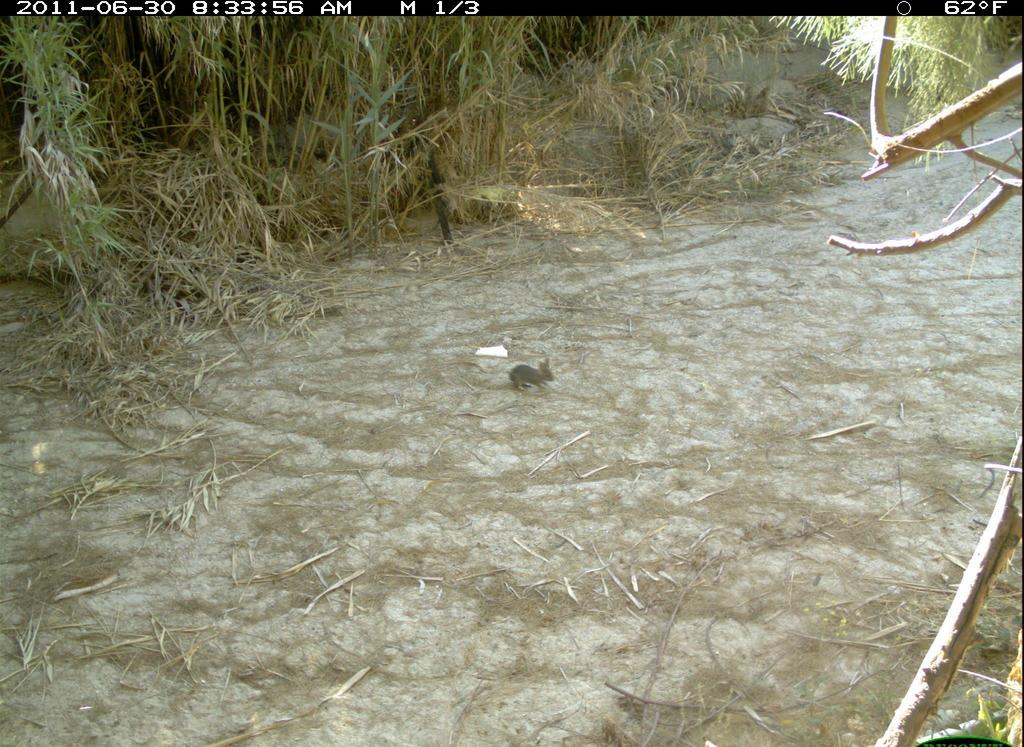rabbit: (502, 351, 562, 401)
